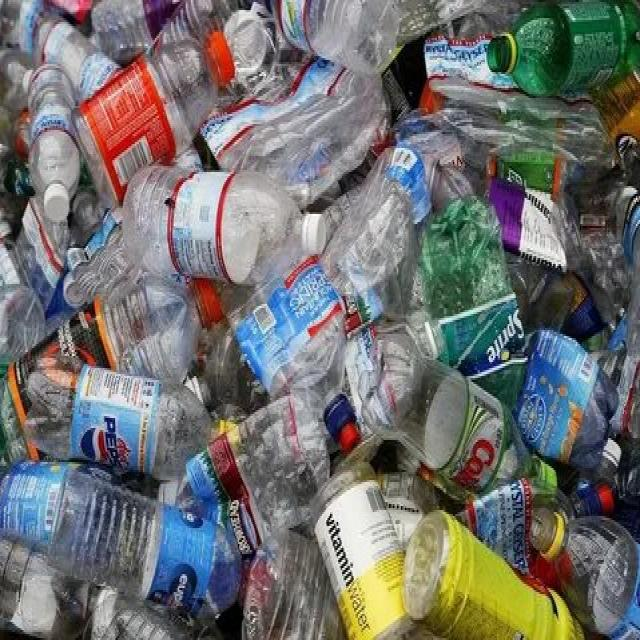green: (418, 197, 526, 417), (489, 0, 640, 95)
